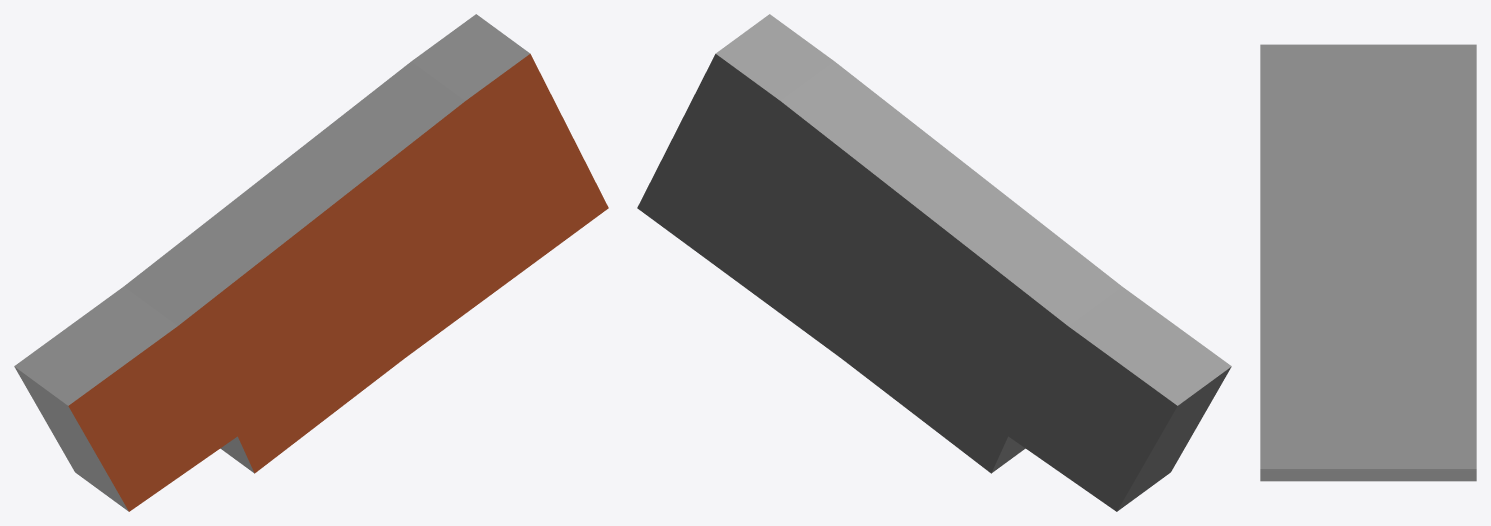
The model's file is construction_6900_assumed_A_Casa_h6m.obj.
3 views of the same model, side by side, from view 1: azimuth 30°, elevation 25°; view 2: azimuth 150°, elevation 25°; view 3: azimuth 270°, elevation 25° (orthographic). The views are drawn at different scales.
Visible parts, largest first — view 1: construction_6900_assumed_A_Casa; view 2: construction_6900_assumed_A_Casa; view 3: construction_6900_assumed_A_Casa.
Part boxes in pixels (<box>): construction_6900_assumed_A_Casa: <box>14,14,608,511</box>; construction_6900_assumed_A_Casa: <box>637,14,1231,511</box>; construction_6900_assumed_A_Casa: <box>1260,44,1476,481</box>.
Bounding box in the file's own units: 34.58 × 22.03 × 6.
